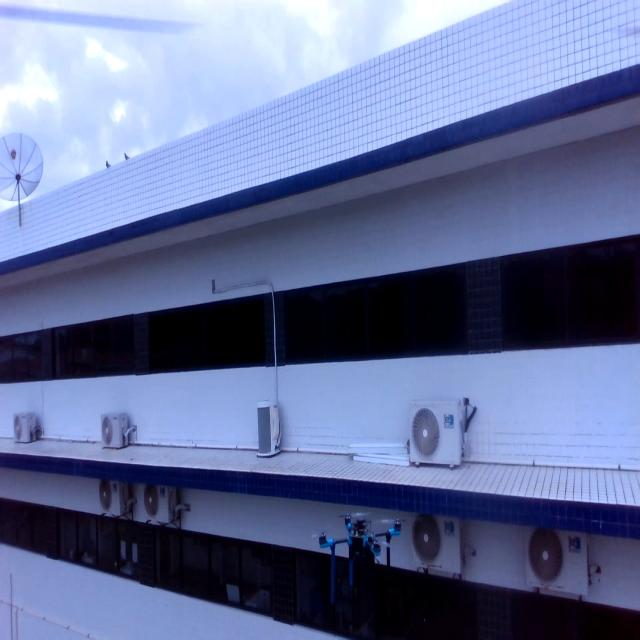-uav-: (307, 484, 408, 626)
